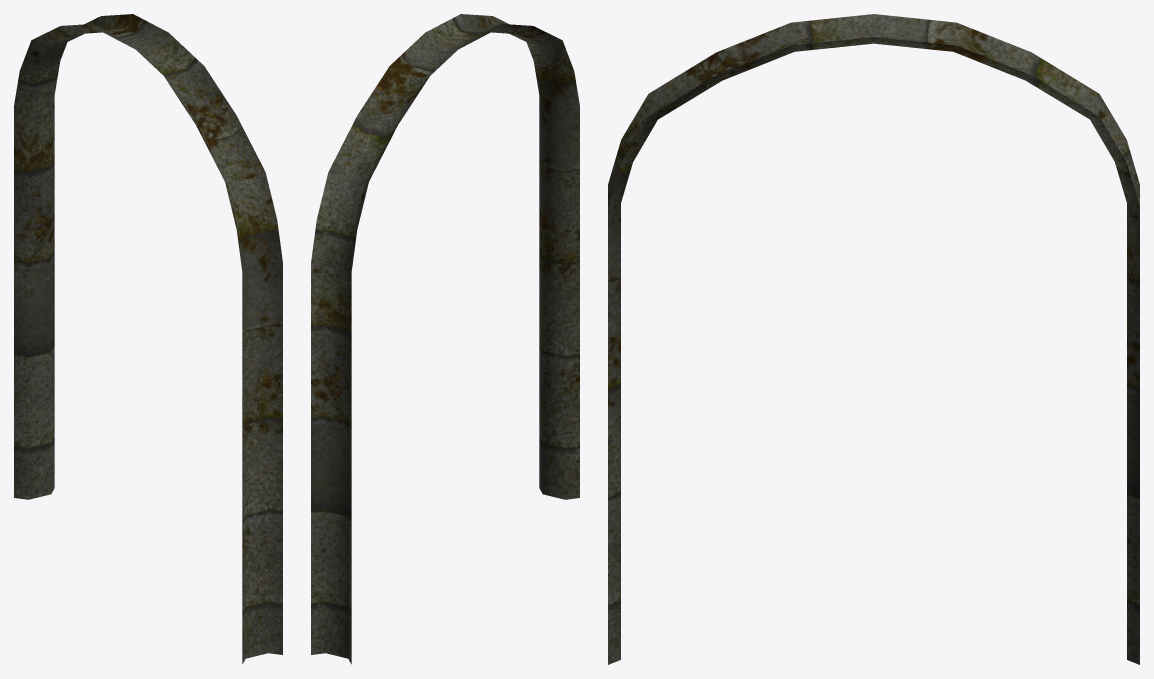
The model's file is SplitterPiece.fbx.
The picture shows the model from 3 angles, left to right: view 1: azimuth 30°, elevation 25°; view 2: azimuth 150°, elevation 25°; view 3: azimuth 270°, elevation 25°; orthographic projection. The views are drawn at different scales.
Parts seen in each view (by area): view 1: SplitterPiece; view 2: SplitterPiece; view 3: SplitterPiece.
Part boxes in pixels (x1,y1,x2,y2): SplitterPiece: (14, 14, 282, 664); SplitterPiece: (311, 14, 579, 664); SplitterPiece: (608, 14, 1139, 664).
Bounding box in the file's own units: 30.79 × 391 × 300.
